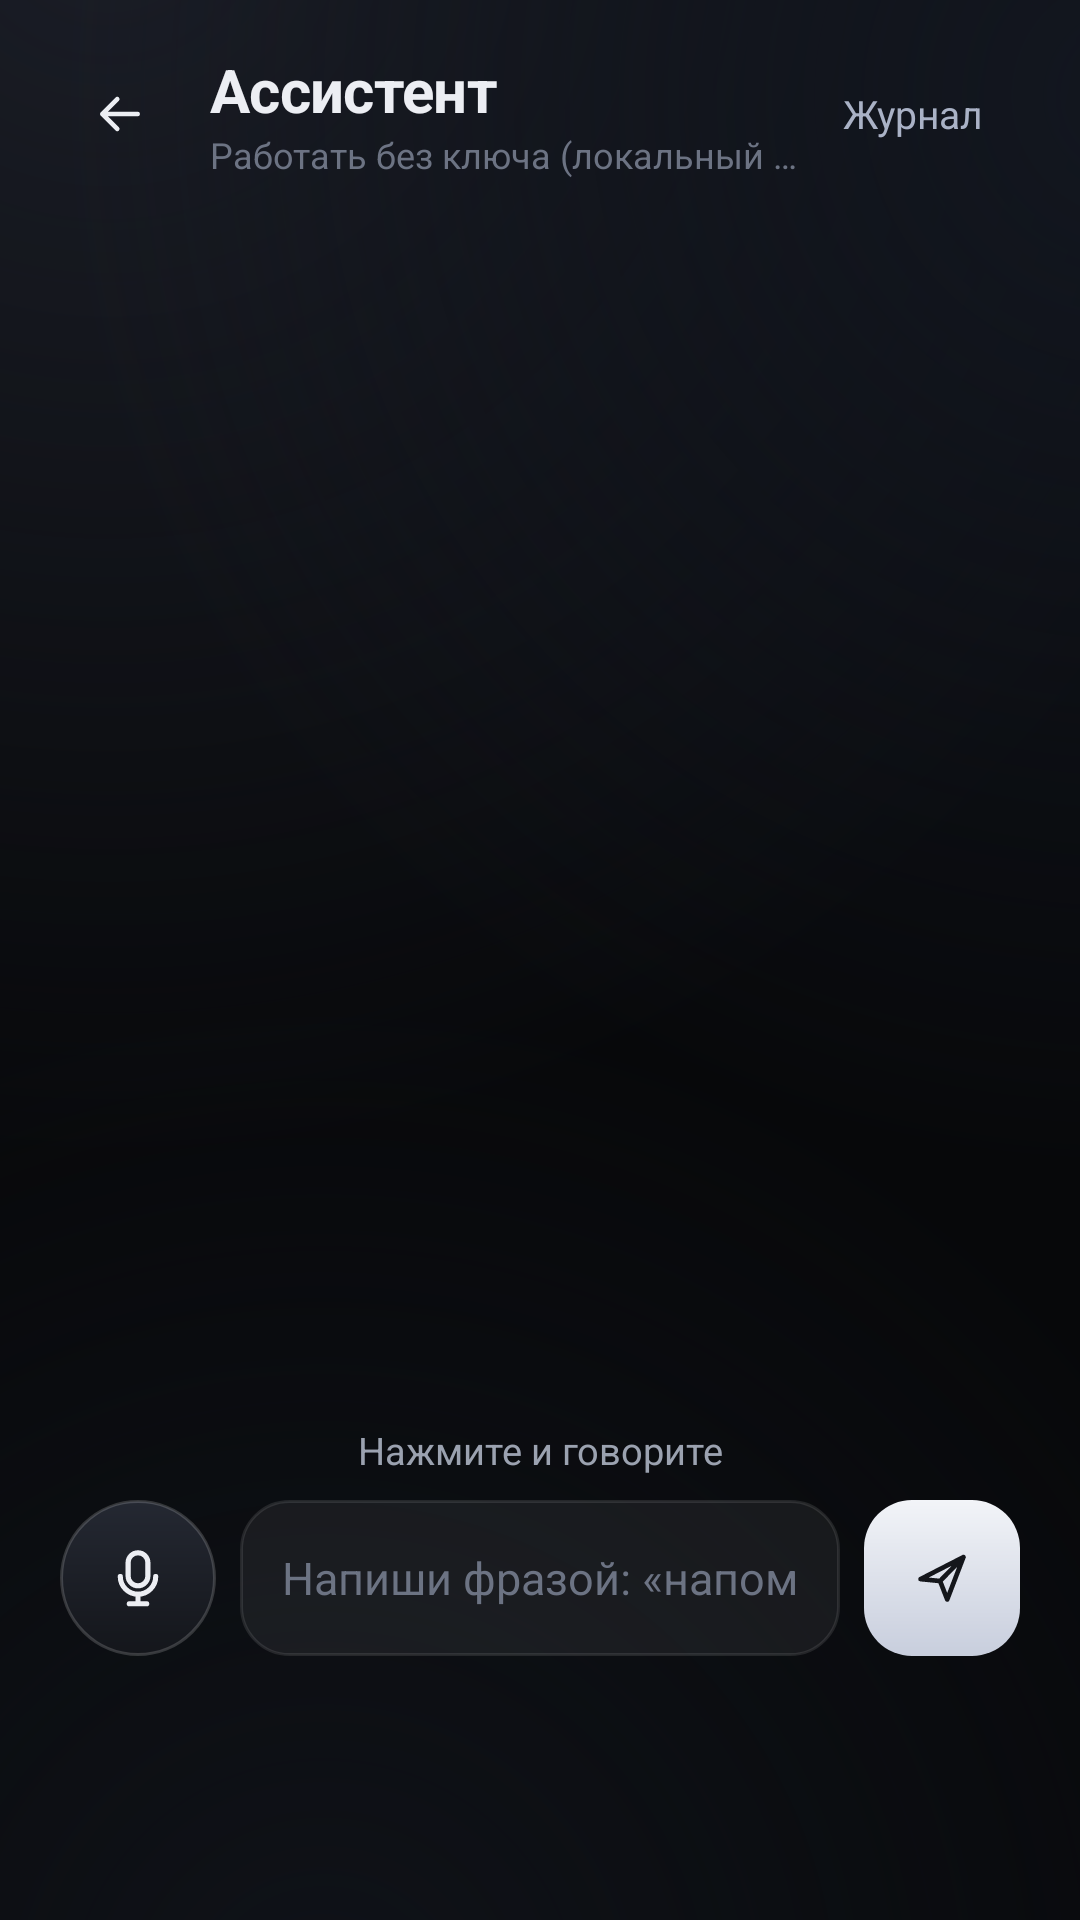

Icons on this 1080 × 1920 Android screen, each with its box as {"x1": x1, "y1": y1, "x2": x2, "y2": y2}:
Отправить: {"x1": 918, "y1": 1554, "x2": 966, "y2": 1602}
